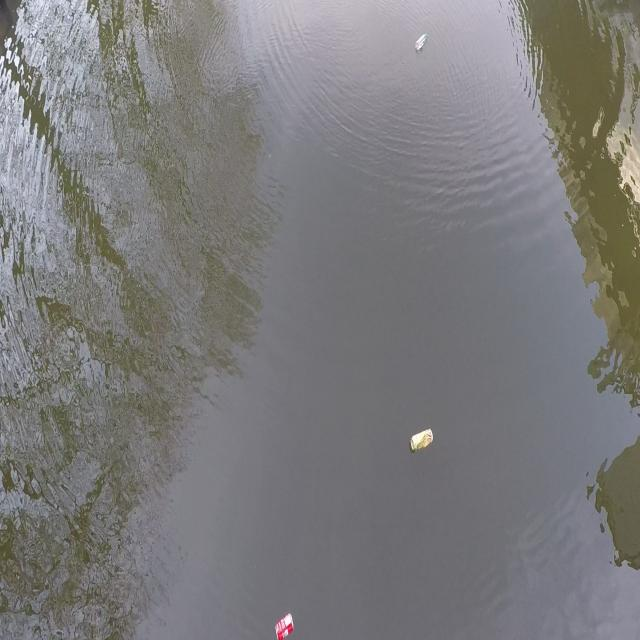Bouteille plastique: (414, 31, 430, 55)
Non plastique: (407, 424, 437, 460), (270, 606, 297, 640)
